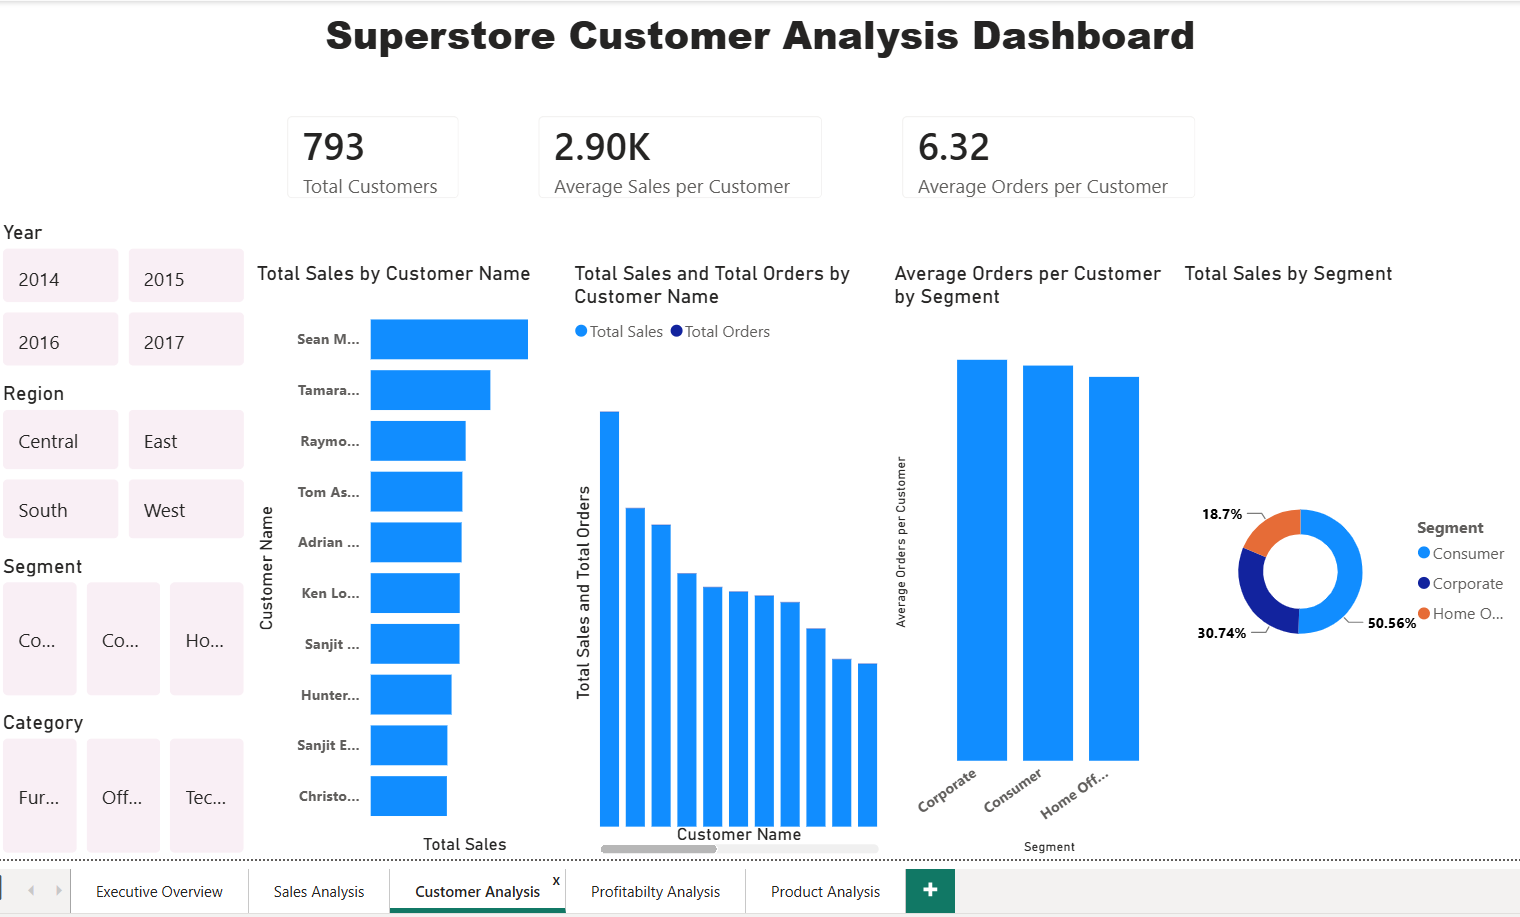

The dashboard page shown, as its layout file describes it:
{"tool":"powerbi","page":{"name":"Customer Analysis","canvas":[1280,720],"ordinal":2},"visuals":[{"type":"cardVisual","fields":{"Data":["Measures (2).Total Customers"]},"box":[226.4,80,178.7,103.8],"z":0},{"type":"cardVisual","fields":{"Data":["Measures (2).Average Sales per Customer"]},"box":[437.4,80,272.3,103.8],"z":1000},{"type":"cardVisual","fields":{"Data":["Measures (2).Average Orders per Customer"]},"box":[742.1,80,280.9,103.8],"z":2000},{"type":"clusteredBarChart","fields":{"Y":["Measures (2).Total Sales"],"Category":["Dim_Customer.Customer Name"]},"box":[212.8,217.9,263.8,502.1],"z":3000},{"type":"columnChart","fields":{"Category":["Dim_Customer.Customer Name"],"Y":["Measures (2).Total Sales","Measures (2).Total Orders"]},"box":[479.4,217.9,265.5,502.1],"z":4000},{"type":"columnChart","fields":{"Category":["Dim_Customer.Segment"],"Y":["Measures (2).Average Orders per Customer"]},"box":[747.2,217.9,240,502.1],"z":5000},{"type":"donutChart","fields":{"Y":["Measures (2).Total Sales"],"Category":["Dim_Customer.Segment"]},"box":[990.6,217.9,289.4,502.1],"z":6000},{"type":"advancedSlicerVisual","fields":{"Values":["Dim_Location.Region"]},"box":[0,318.3,212.8,137.9],"z":7000},{"type":"advancedSlicerVisual","fields":{"Values":["Dim_Product.Category"]},"box":[0,594,212.8,126],"z":8000},{"type":"advancedSlicerVisual","fields":{"Values":["Dim_Customer.Segment"]},"box":[0,463,212.8,124.3],"z":9000},{"type":"advancedSlicerVisual","fields":{"Values":["Dim_Date.Order Date.Variation.Date Hierarchy.Year"]},"box":[0,183.8,212.8,127.7],"z":10000},{"type":"textbox","box":[0,0,1280.3,79.6],"z":11000}]}

Visuals, with their boxes on the page's 1280x720 design canvas (x1, y1, x2, y2). These are canvas units, not pixel positions in the 1520x917 screenshot, which may show the page scaled, cropped or inside an application window:
cardVisual - Measures (2).Total Customers: select_region(226, 80, 405, 184)
cardVisual - Measures (2).Average Sales per Customer: select_region(437, 80, 710, 184)
cardVisual - Measures (2).Average Orders per Customer: select_region(742, 80, 1023, 184)
clusteredBarChart - Measures (2).Total Sales x Dim_Customer.Customer Name: select_region(213, 218, 477, 720)
columnChart - Dim_Customer.Customer Name x Measures (2).Total Sales: select_region(479, 218, 745, 720)
columnChart - Dim_Customer.Segment x Measures (2).Average Orders per Customer: select_region(747, 218, 987, 720)
donutChart - Measures (2).Total Sales x Dim_Customer.Segment: select_region(991, 218, 1280, 720)
advancedSlicerVisual - Dim_Location.Region: select_region(0, 318, 213, 456)
advancedSlicerVisual - Dim_Product.Category: select_region(0, 594, 213, 720)
advancedSlicerVisual - Dim_Customer.Segment: select_region(0, 463, 213, 587)
advancedSlicerVisual - Dim_Date.Order Date.Variation.Date Hierarchy.Year: select_region(0, 184, 213, 312)
textbox: select_region(0, 0, 1280, 80)
